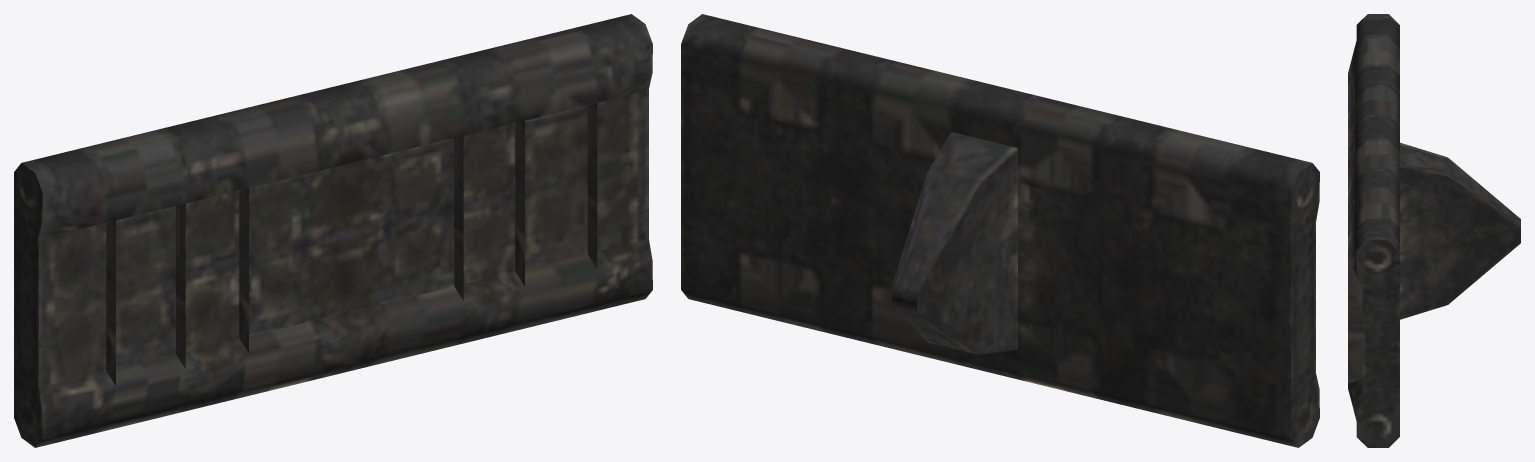
3 renders of one model, left to right at view 1: azimuth 30°, elevation 25°; view 2: azimuth 150°, elevation 25°; view 3: azimuth 270°, elevation 25°, orthographic. The views are drawn at different scales.
Parts seen in each view (by area): view 1: set_0_group_0; view 2: set_0_group_0; view 3: set_0_group_0.
Part boxes in pixels (<box>): set_0_group_0: <box>14,14,652,447</box>; set_0_group_0: <box>681,14,1319,447</box>; set_0_group_0: <box>1348,14,1520,447</box>.
Size of the model in its own units: 0.499 by 0.2148 by 0.1614.
Materials: 1 (1 with a texture image).
